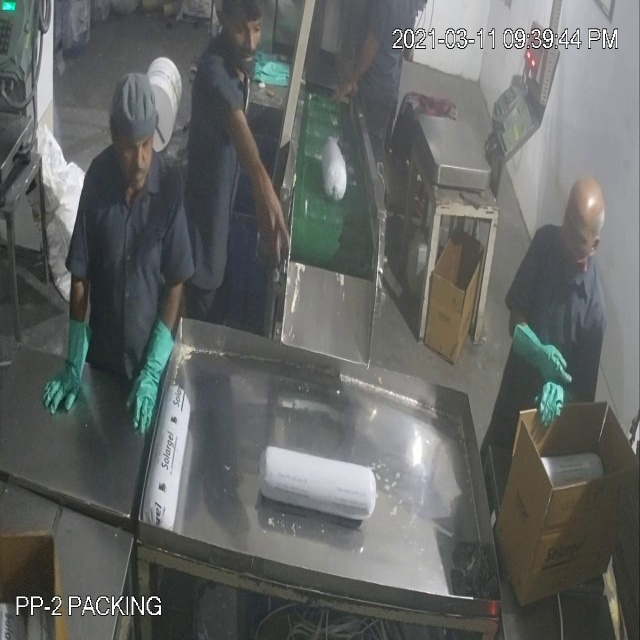Guantes: (130, 315, 183, 439), (41, 316, 96, 425), (502, 319, 570, 389)
Sin_guantes: (216, 102, 304, 278), (333, 30, 384, 107)
